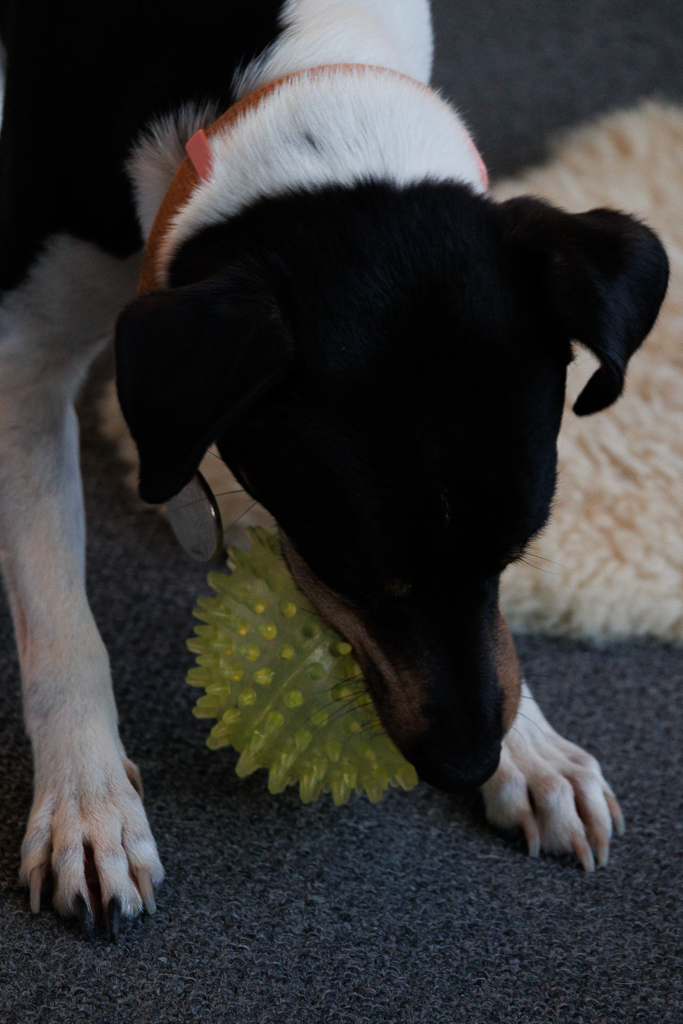Dog: (0, 0, 675, 955)
